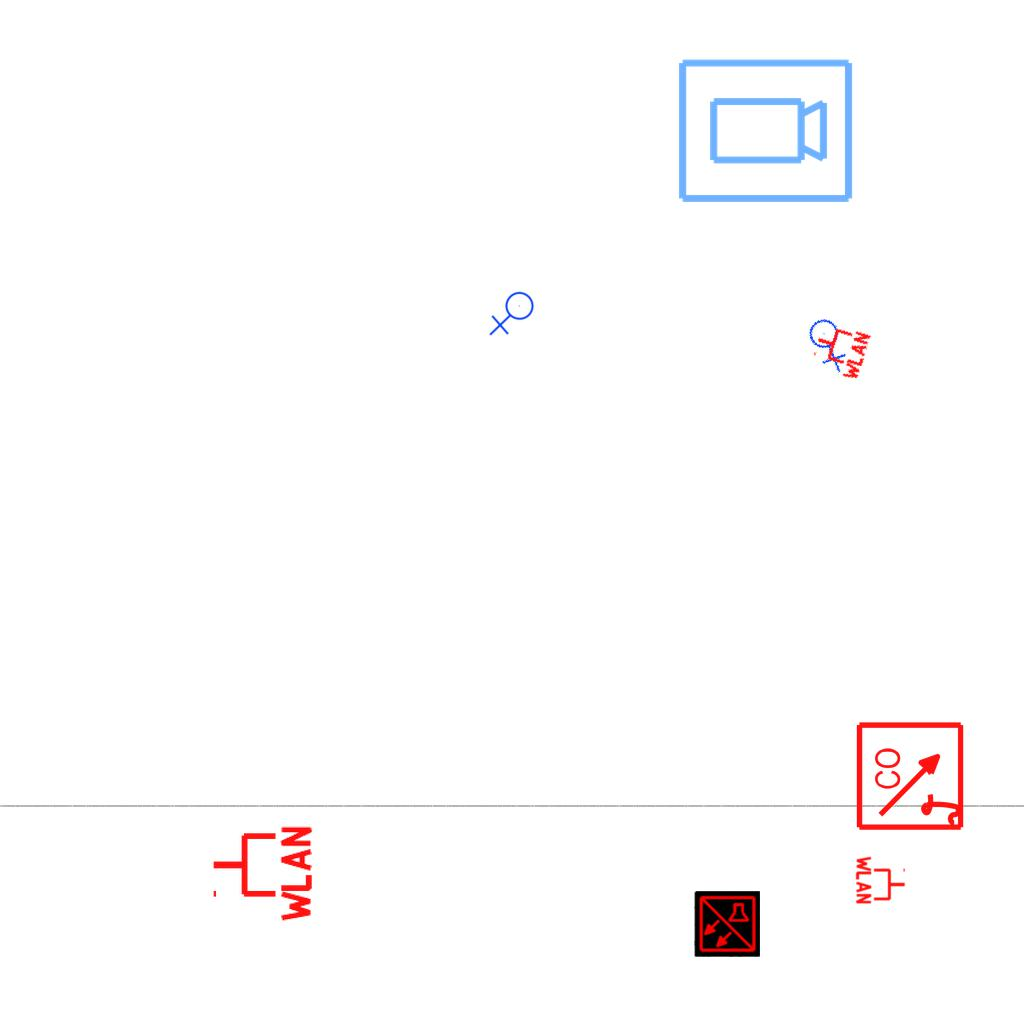Elektroanschluss_allgemein_230V_Geraeteanschlussdose_230V: (798, 310, 861, 375), (489, 291, 538, 338)
KFO_Kamera_mit_Festobjektiv: (674, 55, 856, 209)
OKW_Multisensormelder_(Kombination_optischer_Rauch-Kahlenmonoxid_Waerme-Melder): (694, 891, 760, 957)
ROA_Rauchmelder_optisch_mit_Signalgeber_(Sockelsirene): (855, 719, 968, 832)
WLAN: (209, 822, 314, 926), (807, 318, 873, 384), (855, 854, 907, 906)
